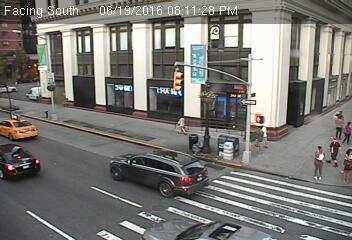neg: (282, 76, 313, 117), (13, 76, 43, 115), (201, 24, 230, 63), (320, 57, 345, 90), (207, 90, 231, 123), (34, 93, 57, 122), (212, 208, 234, 238), (35, 49, 55, 75)
pos: (304, 144, 335, 185), (249, 120, 276, 156), (324, 133, 349, 166), (168, 110, 193, 142), (327, 106, 351, 138), (335, 144, 351, 183), (340, 118, 351, 144)
